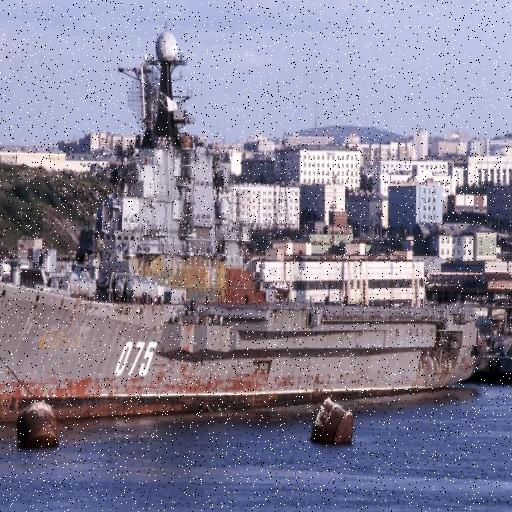Portanaves: (1, 18, 496, 444)
